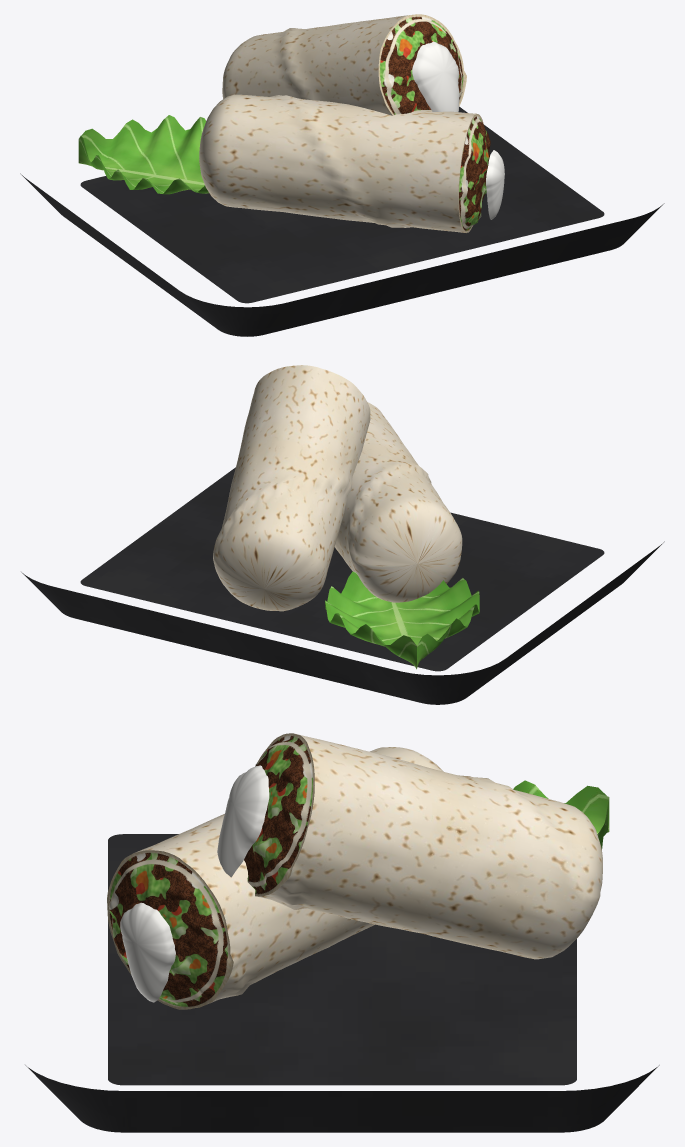
The model's file is shawarma.glb.
The picture shows the model from 3 angles, top to bottom: view 1: azimuth 30°, elevation 25°; view 2: azimuth 150°, elevation 25°; view 3: azimuth 270°, elevation 25°; orthographic projection. The views are drawn at different scales.
Visible parts, largest first — view 1: shawarma; view 2: shawarma; view 3: shawarma.
Boxes of the visible parts, x1,y1,x2,y2 form: shawarma: (20, 14, 664, 336); shawarma: (21, 365, 664, 704); shawarma: (25, 733, 659, 1132).
Bounding box in the file's own units: 0.25 × 0.1016 × 0.21.
Materials: 5 (4 with a texture image).
